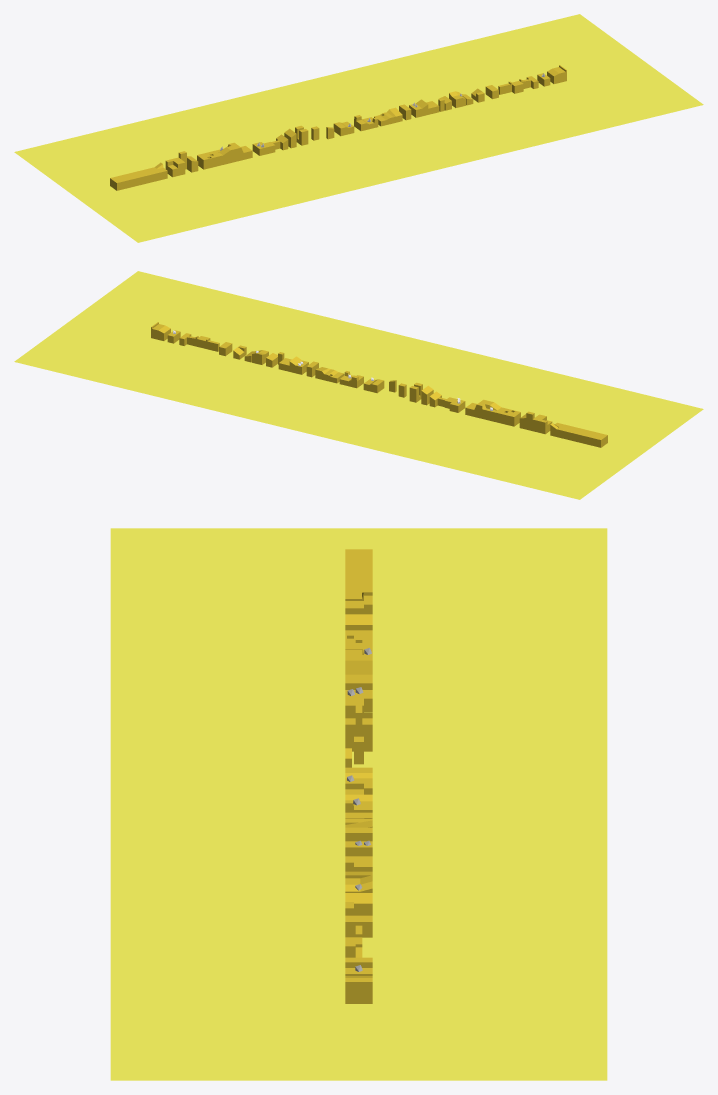
The model's file is GameProjectMap2.fbx.
3 views of the same model, one above another, from view 1: azimuth 30°, elevation 25°; view 2: azimuth 150°, elevation 25°; view 3: azimuth 270°, elevation 25° (orthographic). The views are drawn at different scales.
Visible parts, largest first — view 1: Plane, Cube.004, Cube, Cube.001, Cube.030; view 2: Plane, Cube.004, Cube, Cube.001, Cube.030; view 3: Plane, Cube.004, Cube, Cube.001.
Boxes of the visible parts, left/top/right/bottom form: Plane: left=14, top=14, right=703, bottom=242; Cube.004: left=197, top=142, right=252, bottom=169; Cube: left=110, top=162, right=167, bottom=190; Cube.001: left=165, top=151, right=198, bottom=177; Cube.030: left=498, top=76, right=538, bottom=94; Plane: left=14, top=271, right=703, bottom=499; Cube.004: left=465, top=399, right=520, bottom=426; Cube: left=550, top=422, right=607, bottom=447; Cube.001: left=519, top=411, right=552, bottom=434; Cube.030: left=179, top=333, right=219, bottom=351; Plane: left=110, top=528, right=607, bottom=1080; Cube.004: left=345, top=630, right=372, bottom=689; Cube: left=345, top=549, right=372, bottom=600; Cube.001: left=345, top=595, right=372, bottom=630.
Bounding box in the file's own units: 38031 × 1064 × 14450.
